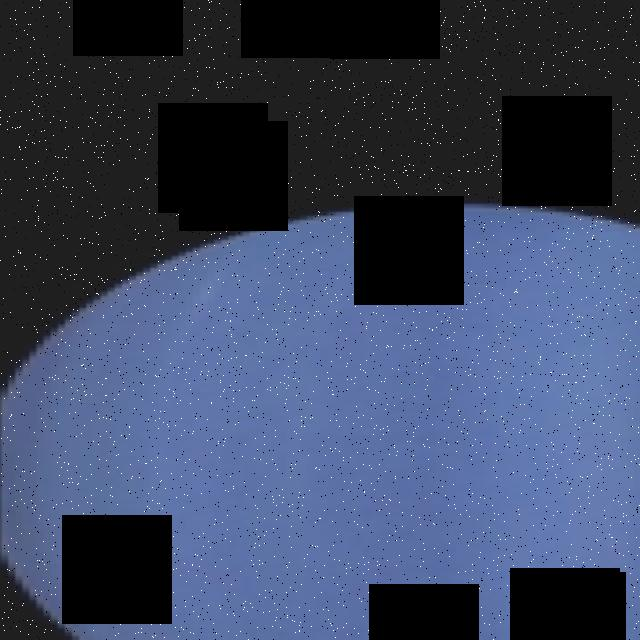Neptune: (0, 200, 640, 640)
